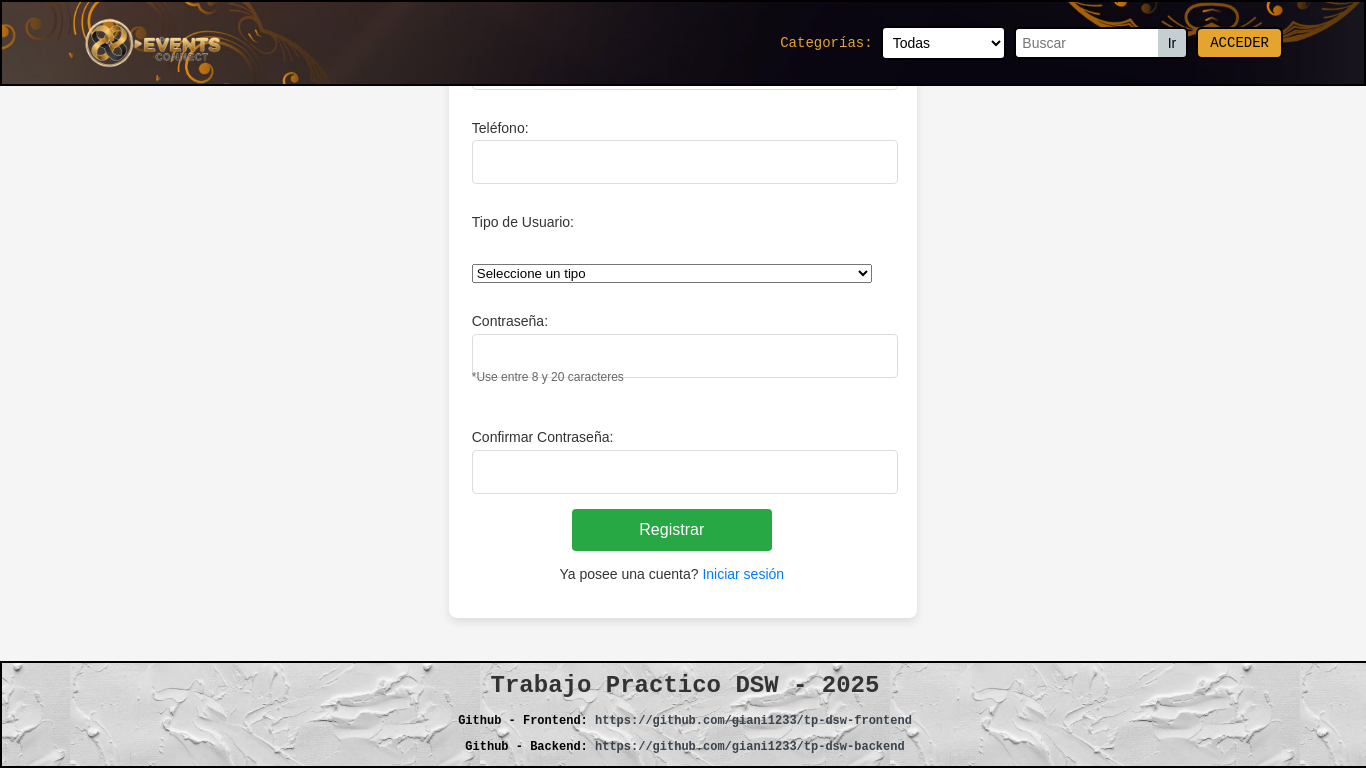
it: Flujo de registro y login › Debería mostrar errores cuando el formulario está vacío
(page scrolled)
Click the submit button: (672, 530) [572,509,772,551]
(page scrolled)
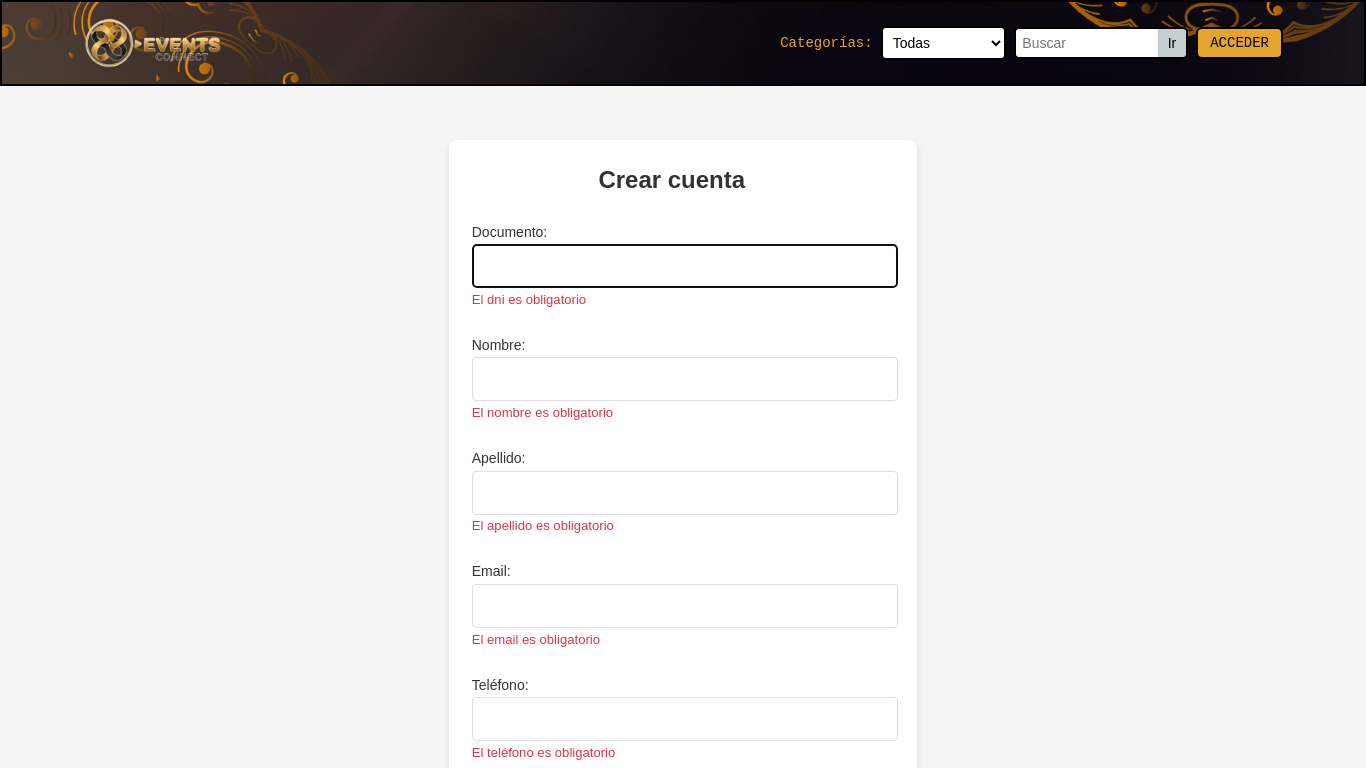
Expected: the text "El dni es obligatorio" is shown, [472,292,586,307]
Expected: the text "El nombre es obligatorio" is shown, [472,405,613,420]
Expected: the text "El email es obligatorio" is shown, [472,632,600,646]
